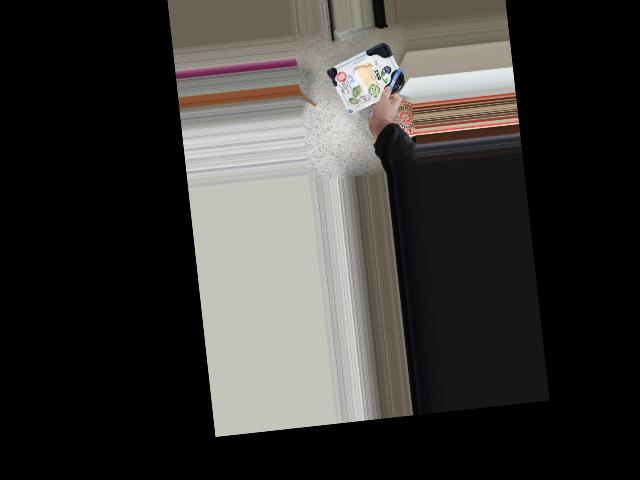cheese: (333, 54, 398, 108)
